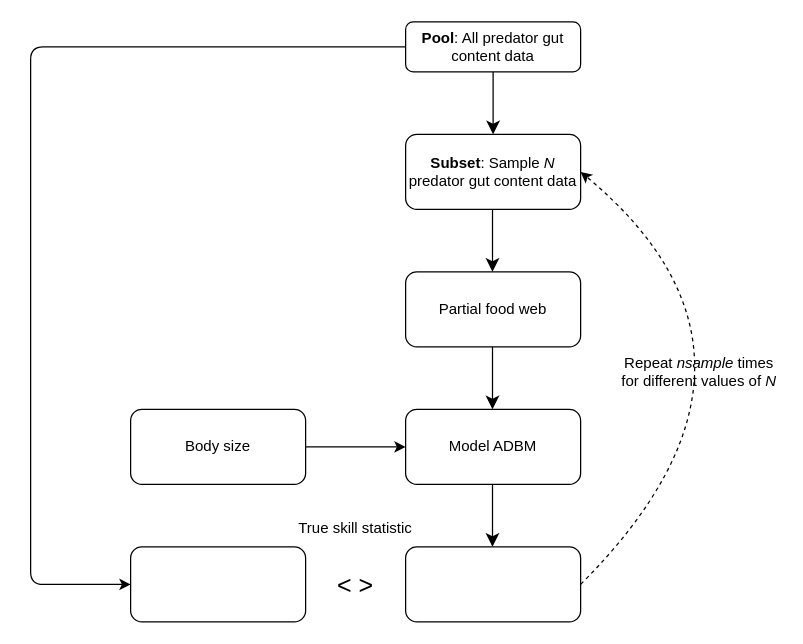
Image size: 803x644. Some labels were removed from this diagram. The centre of each missing label's shape, as x and y in pixels:
Observed food web: (217,584)
Predicted full food web: (492,584)
